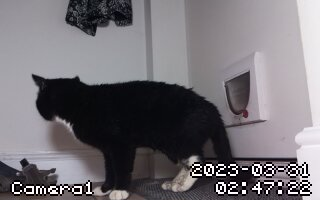bad: (30, 72, 251, 200)
